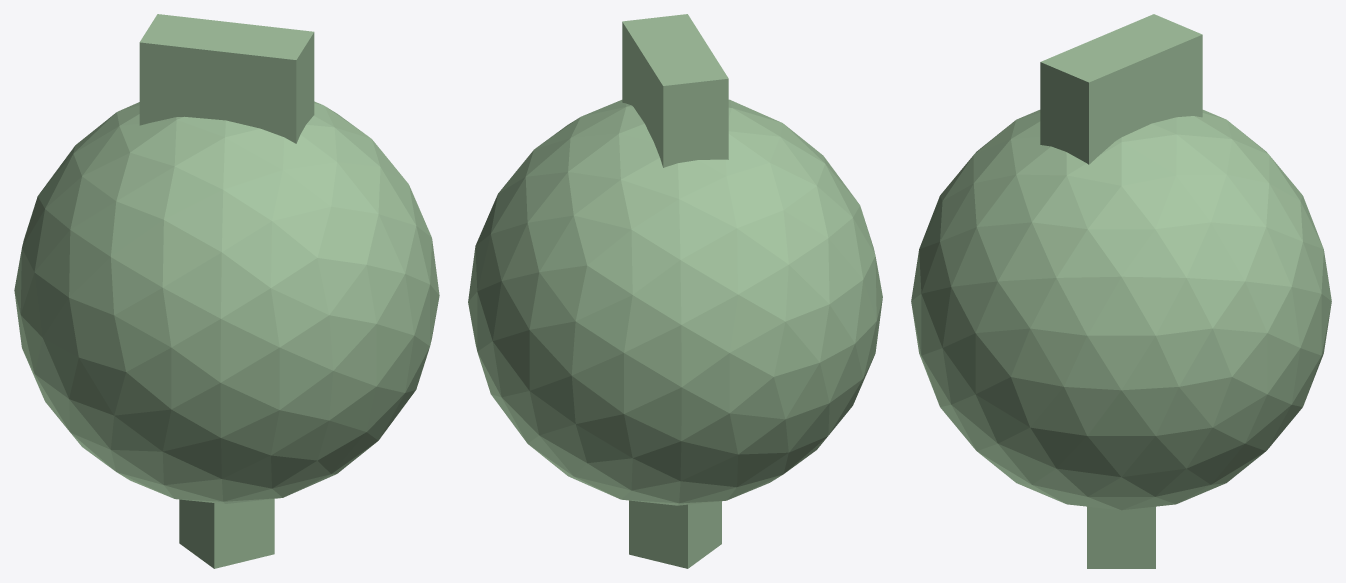
Rendered from love_017.glb.
The picture shows the model from 3 angles, left to right: view 1: azimuth 30°, elevation 25°; view 2: azimuth 150°, elevation 25°; view 3: azimuth 270°, elevation 25°; orthographic projection. The views are drawn at different scales.
Parts seen in each view (by area): view 1: world; view 2: world; view 3: world.
Part boxes in pixels (bbox=[...]): world: bbox=[14, 14, 439, 568]; world: bbox=[468, 14, 882, 568]; world: bbox=[911, 14, 1331, 568].
Size of the model in its own units: 1.1 by 1.46 by 1.1.
